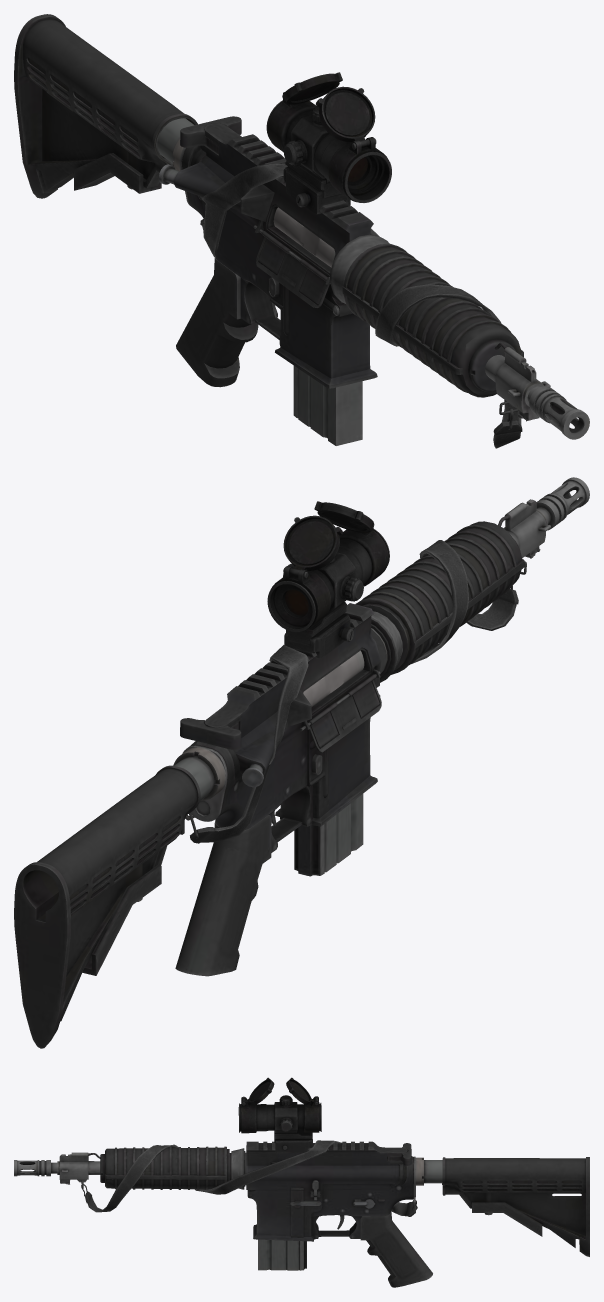
3 views of the same model, one above another, from view 1: azimuth 30°, elevation 25°; view 2: azimuth 150°, elevation 25°; view 3: azimuth 270°, elevation 25° (orthographic). The views are drawn at different scales.
Parts seen in each view (by area): view 1: weapon; view 2: weapon; view 3: weapon.
Part boxes in pixels (<box>): weapon: <box>14,14,589,448</box>; weapon: <box>14,477,589,1048</box>; weapon: <box>14,1077,589,1287</box>.
Size of the model in its own units: 0.0816 by 0.3285 by 0.84.
3 materials, 3 textured.
